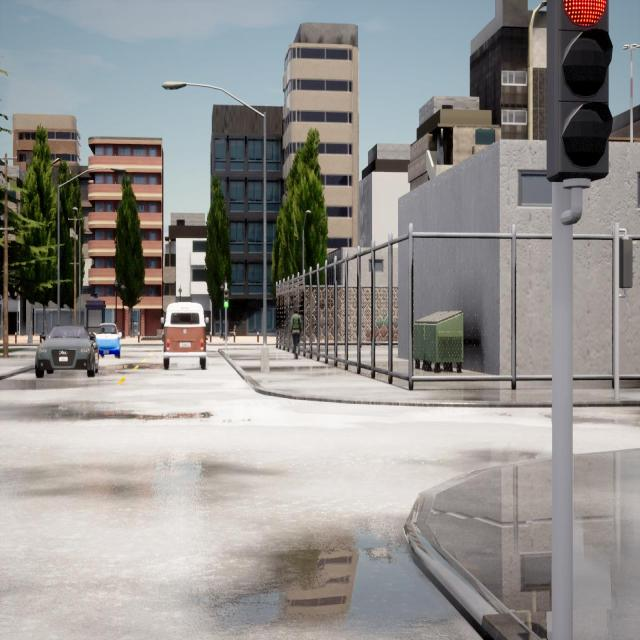Pedestrian: (289, 308, 302, 358)
Vehicle: (35, 326, 97, 378), (164, 304, 205, 369), (96, 323, 121, 357)
traffic_light: (546, 0, 608, 178), (620, 238, 632, 289), (224, 290, 228, 308)
